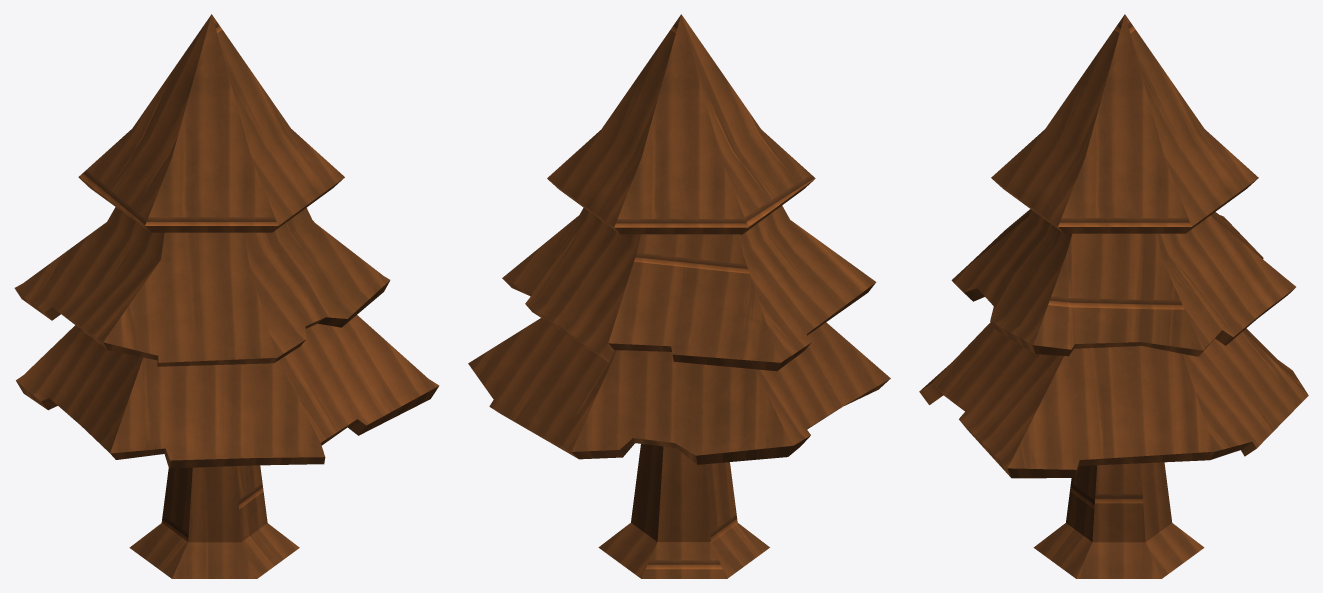
Rendered from Snow_Pine.fbx.
3 views of the same model, side by side, from view 1: azimuth 30°, elevation 25°; view 2: azimuth 150°, elevation 25°; view 3: azimuth 270°, elevation 25° (orthographic).
Parts seen in each view (by area): view 1: Cone.003; view 2: Cone.003; view 3: Cone.003.
Boxes of the visible parts, bbox=[...] form: Cone.003: bbox=[14, 14, 439, 578]; Cone.003: bbox=[468, 14, 890, 578]; Cone.003: bbox=[919, 14, 1308, 578].
Bounding box in the file's own units: 262 × 411 × 272.
